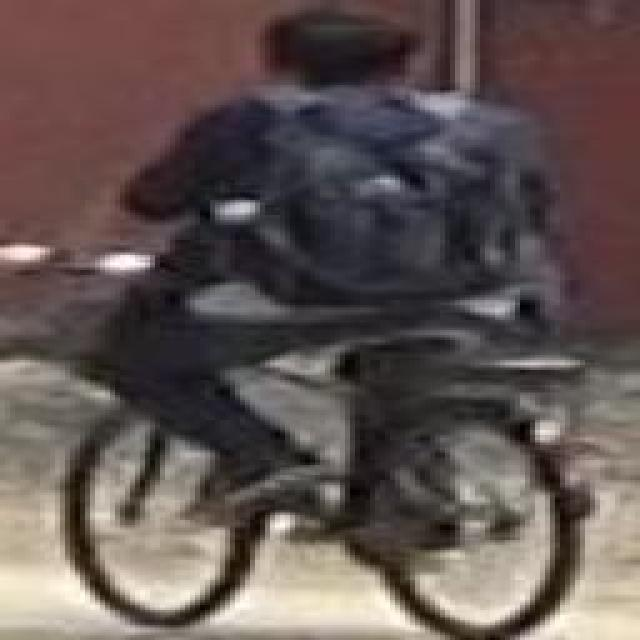adult: (77, 6, 579, 517)
